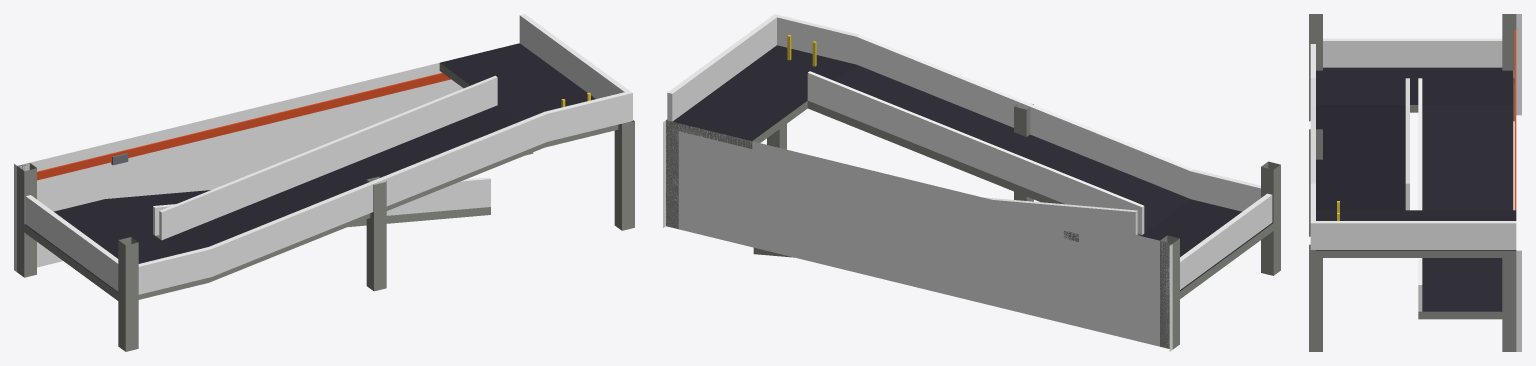
File: mid-stair3_close.fbx
3 renders of one model, left to right at view 1: azimuth 30°, elevation 25°; view 2: azimuth 150°, elevation 25°; view 3: azimuth 270°, elevation 25°, orthographic. The views are drawn at different scales.
Visible parts, largest first — view 1: a2008/0/mid-stair3_close; view 2: a2008/0/mid-stair3_close; view 3: a2008/0/mid-stair3_close.
Boxes of the visible parts, x1,y1,x2,y2 form: a2008/0/mid-stair3_close: (14, 14, 634, 351); a2008/0/mid-stair3_close: (663, 14, 1280, 351); a2008/0/mid-stair3_close: (1309, 14, 1521, 351).
Size of the model in its own units: 20 by 5.35 by 7.6.
